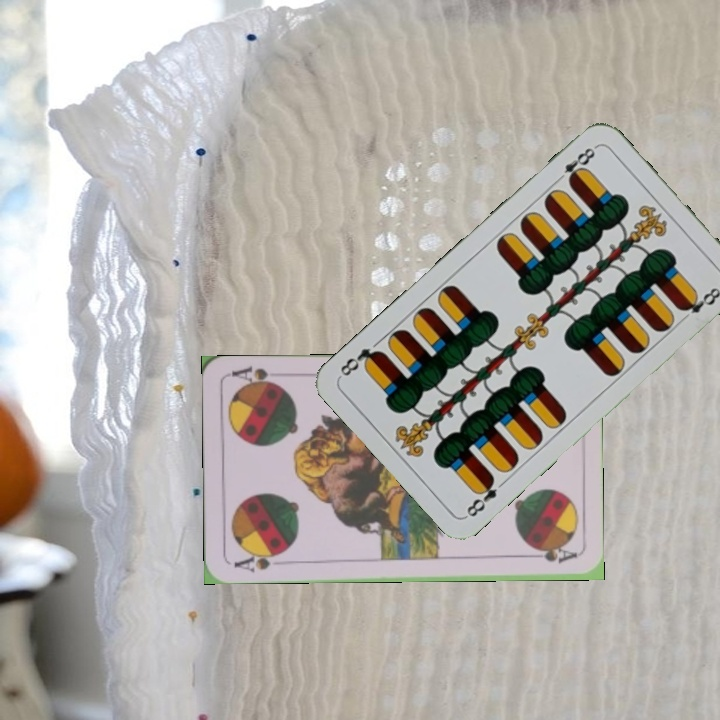E8: (551, 142, 599, 187), (462, 472, 500, 520)
SA: (230, 548, 287, 575)
